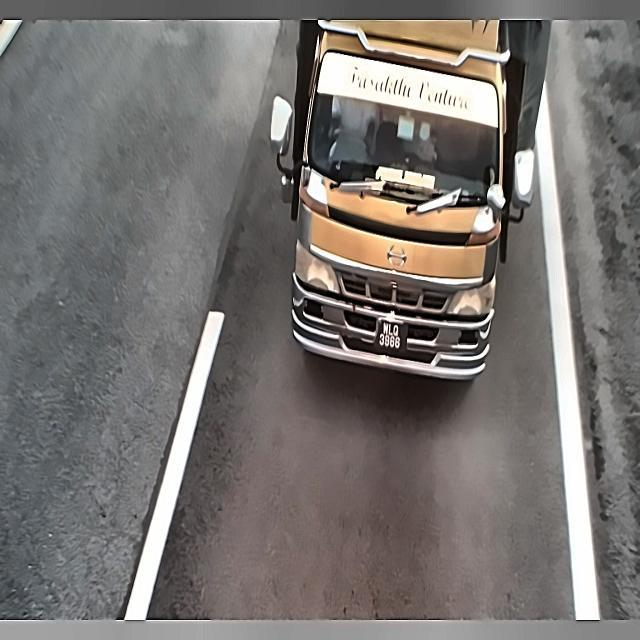car: (374, 315, 410, 361)
